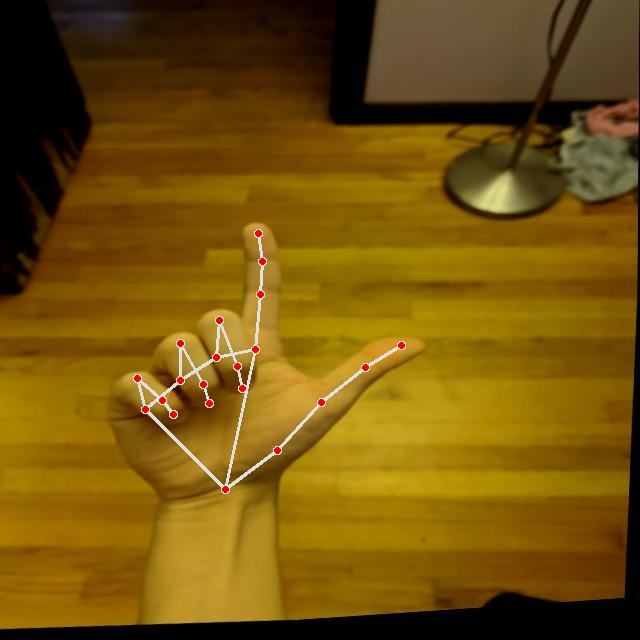L: (95, 203, 441, 521)
